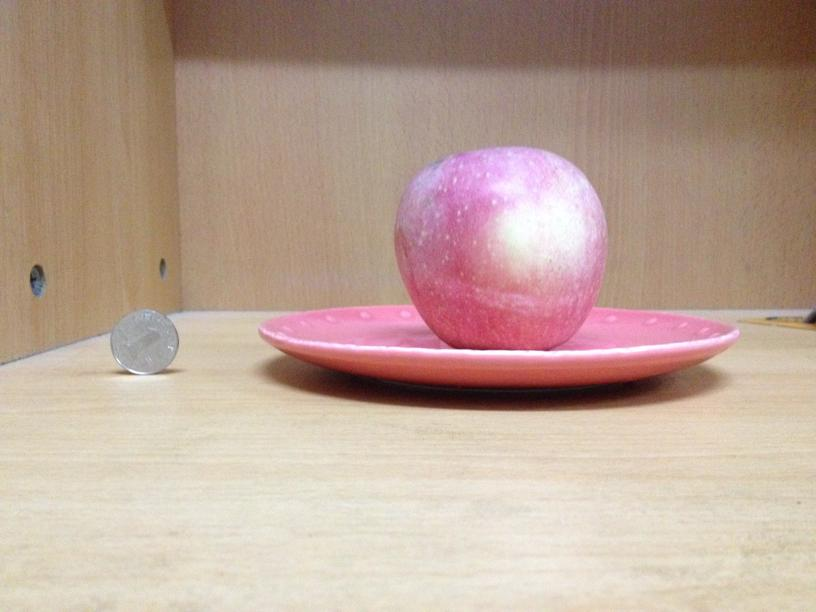apple: (394, 142, 606, 348)
coin: (108, 307, 179, 374)
